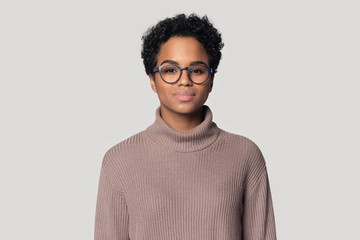teen: (134, 13, 241, 129)
